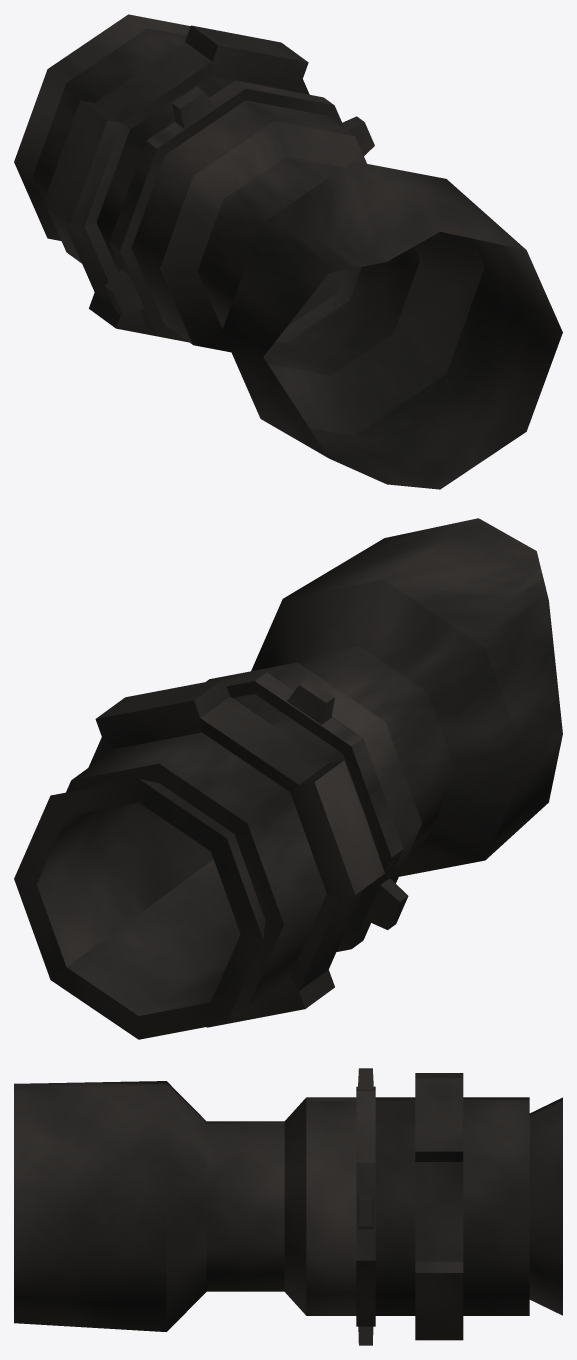
File: e_port_inner_engine_d_model.fbx
3 renders of one model, top to bottom at view 1: azimuth 30°, elevation 25°; view 2: azimuth 150°, elevation 25°; view 3: azimuth 270°, elevation 25°, orthographic. The views are drawn at different scales.
Parts seen in each view (by area): view 1: portNearEngine3; view 2: portNearEngine3; view 3: portNearEngine3.
Boxes of the visible parts, x1=… form: portNearEngine3: x1=14, y1=14, x2=562, y2=489; portNearEngine3: x1=14, y1=518, x2=562, y2=1039; portNearEngine3: x1=14, y1=1068, x2=562, y2=1345.
Size of the model in its own units: 2247 by 2247 by 4270.
1 material, 1 textured.
